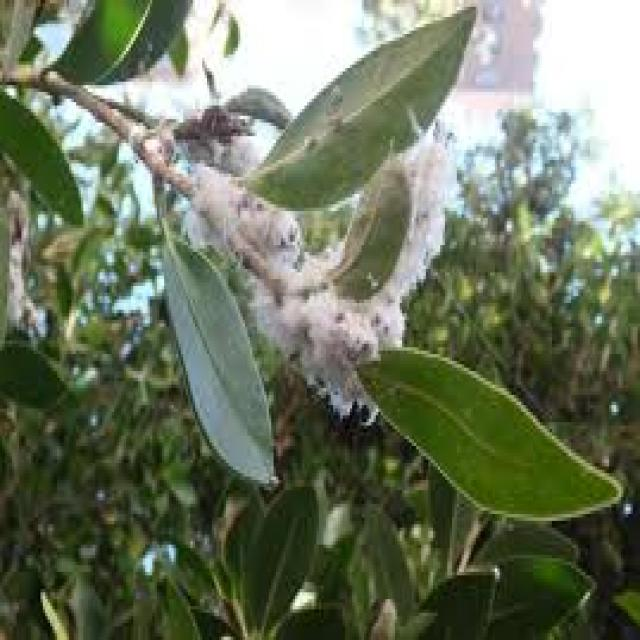Psyllid: (257, 123, 450, 422), (181, 163, 300, 266)
